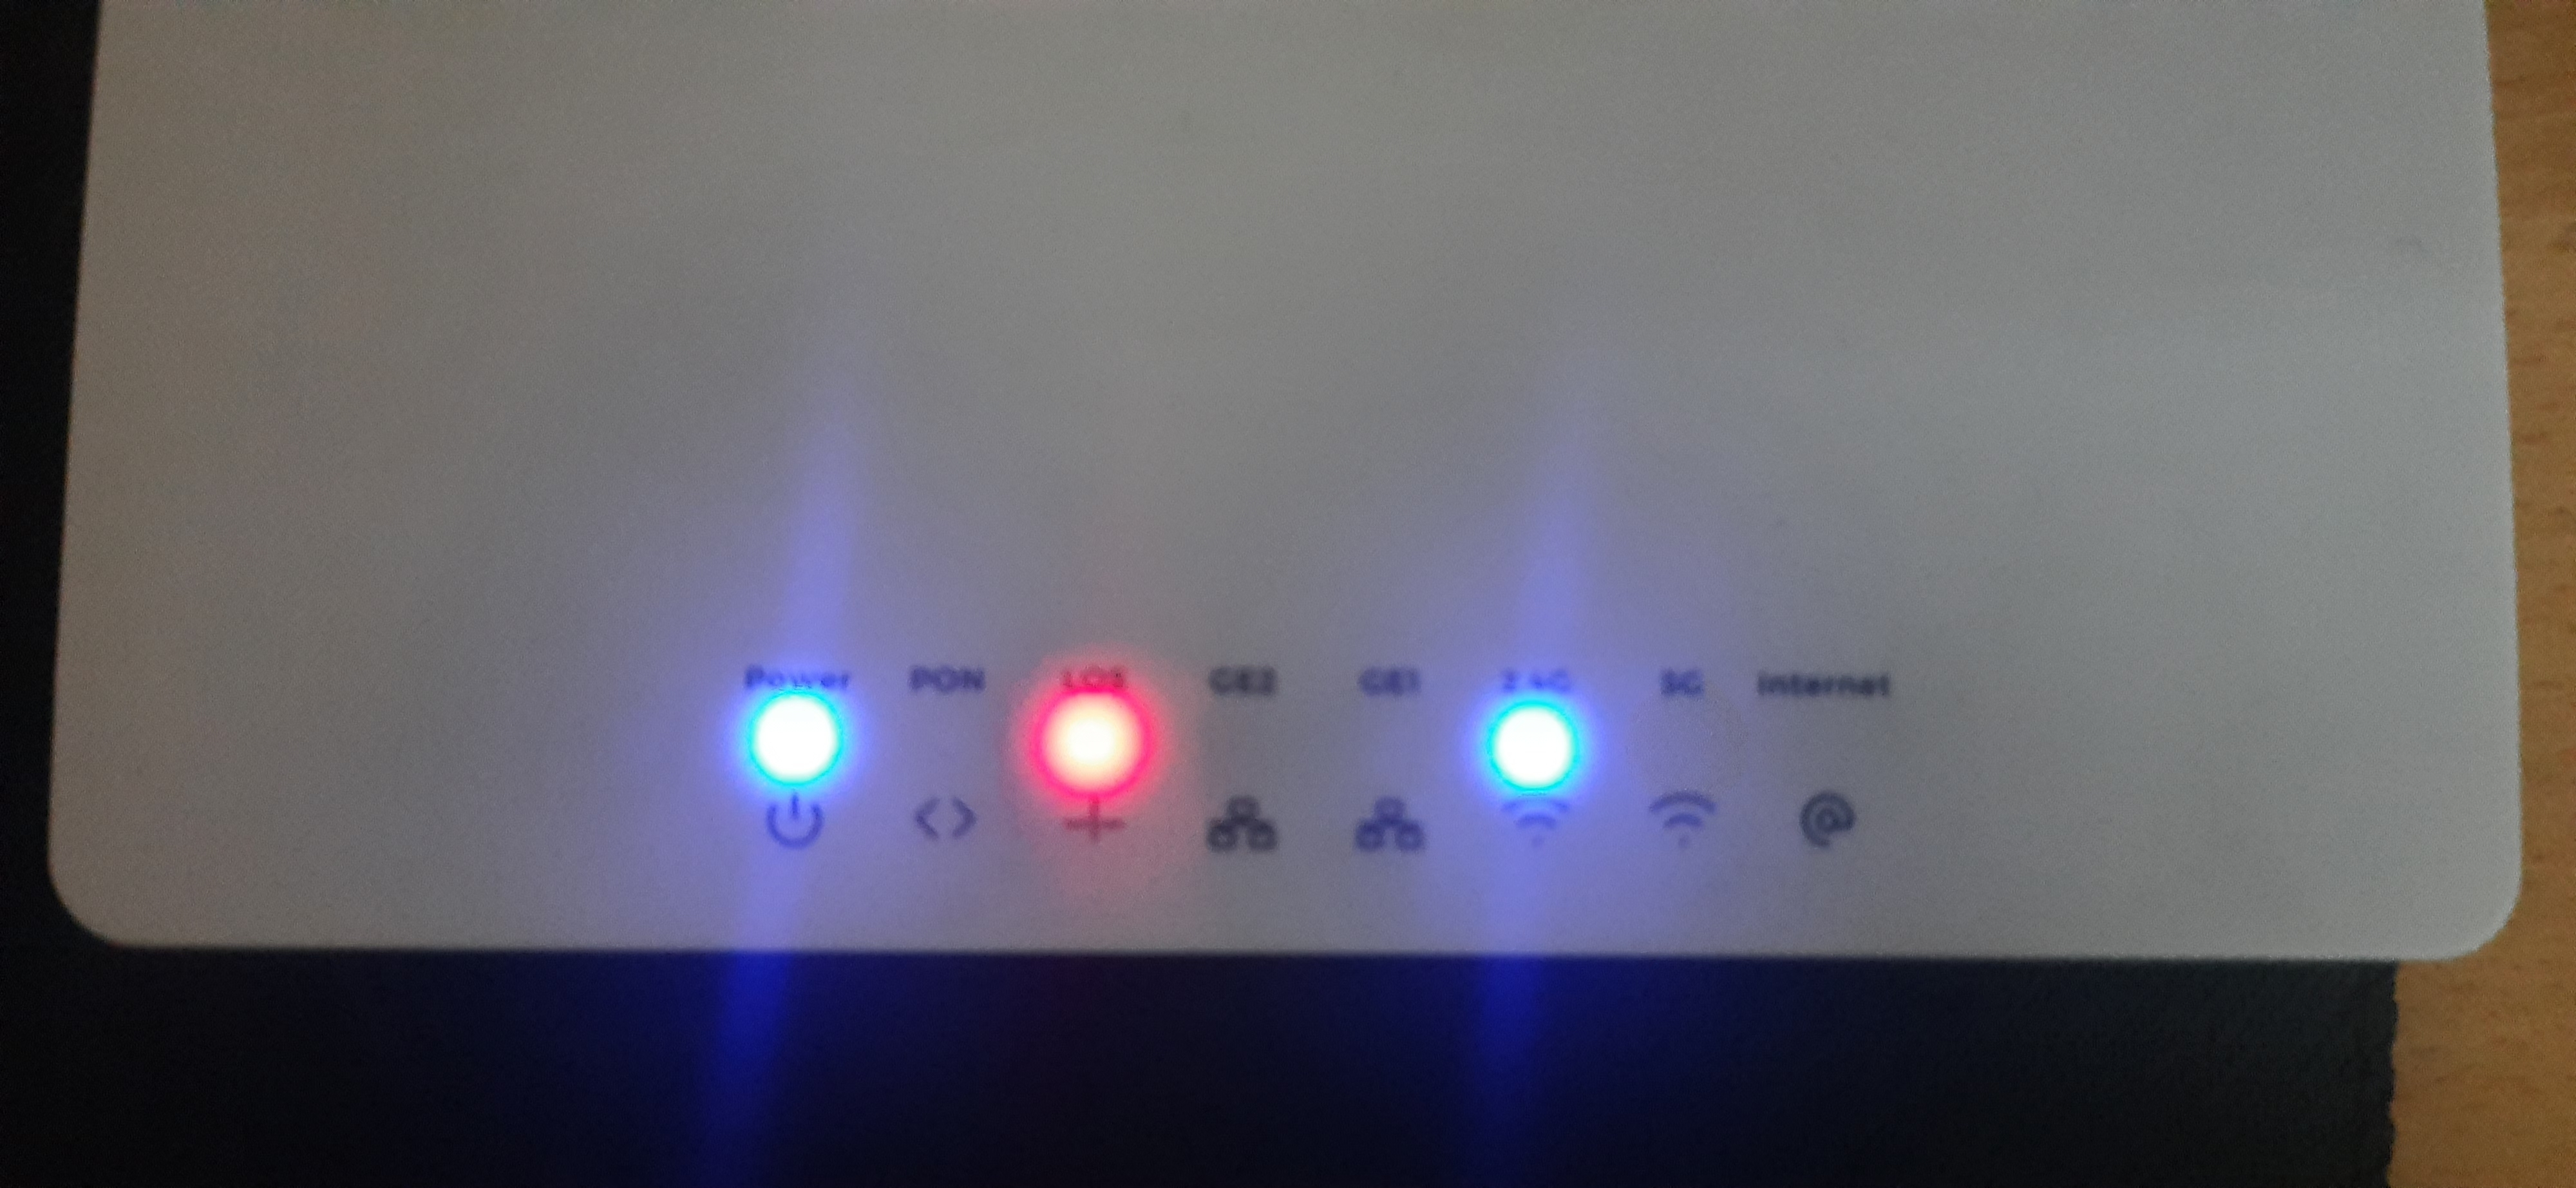LOSConnectionIssue: (976, 615, 1204, 920)
